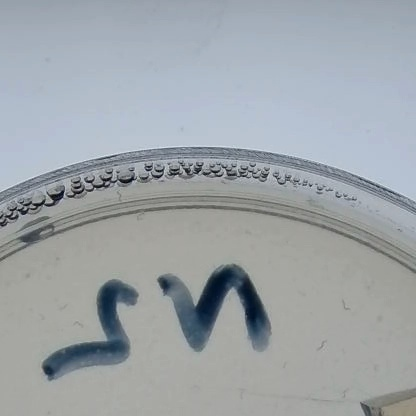worm: (330, 385, 351, 412), (312, 331, 330, 357), (335, 294, 351, 320), (66, 315, 87, 333), (234, 382, 250, 399), (278, 358, 292, 372), (54, 298, 68, 312), (134, 212, 147, 223)
